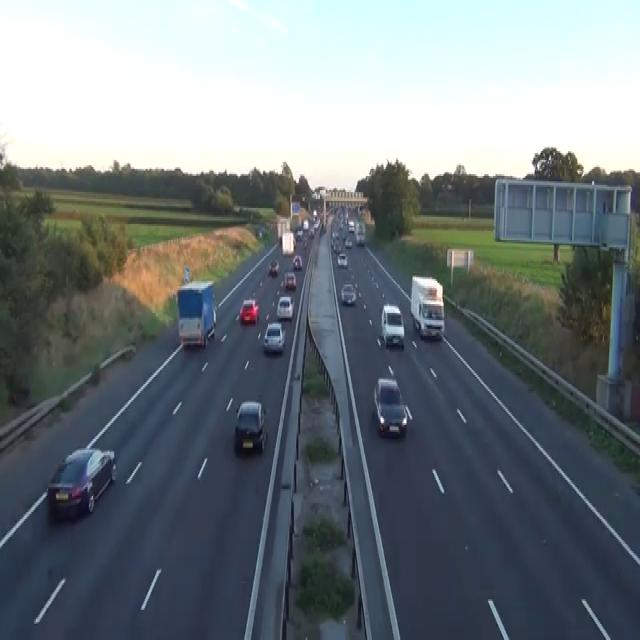Car: (47, 446, 116, 521), (372, 377, 407, 437), (331, 214, 365, 268), (234, 400, 266, 453), (380, 304, 404, 348), (263, 322, 285, 352), (239, 298, 259, 324), (276, 295, 294, 320), (340, 283, 356, 304), (283, 270, 296, 290), (269, 258, 279, 276), (337, 250, 347, 266), (292, 254, 302, 268), (331, 238, 341, 252), (355, 231, 364, 245), (441, 182, 456, 190), (295, 229, 303, 242), (347, 219, 354, 233), (308, 226, 314, 238), (331, 231, 339, 240), (345, 237, 352, 247), (313, 219, 320, 229), (312, 208, 317, 219), (303, 236, 307, 249)
Truck: (176, 279, 216, 349), (410, 274, 444, 339), (281, 231, 295, 254)
